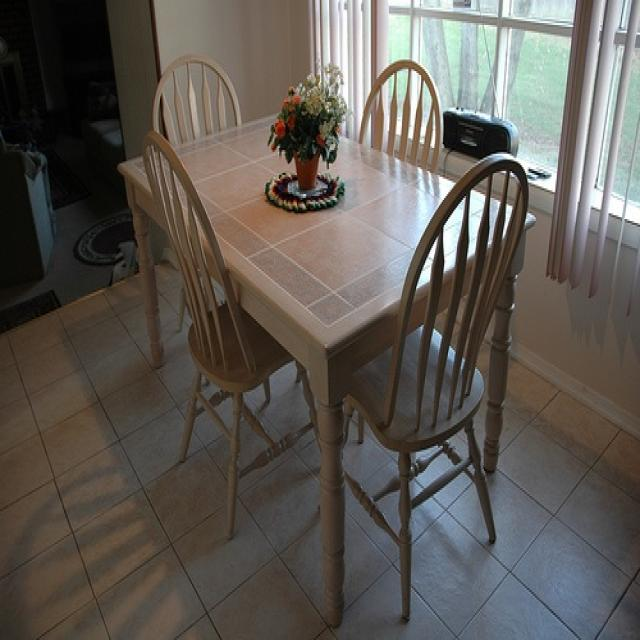chair: (319, 160, 530, 615), (140, 133, 326, 526), (357, 58, 444, 173), (148, 54, 233, 148)
diningtable: (119, 105, 541, 622)
